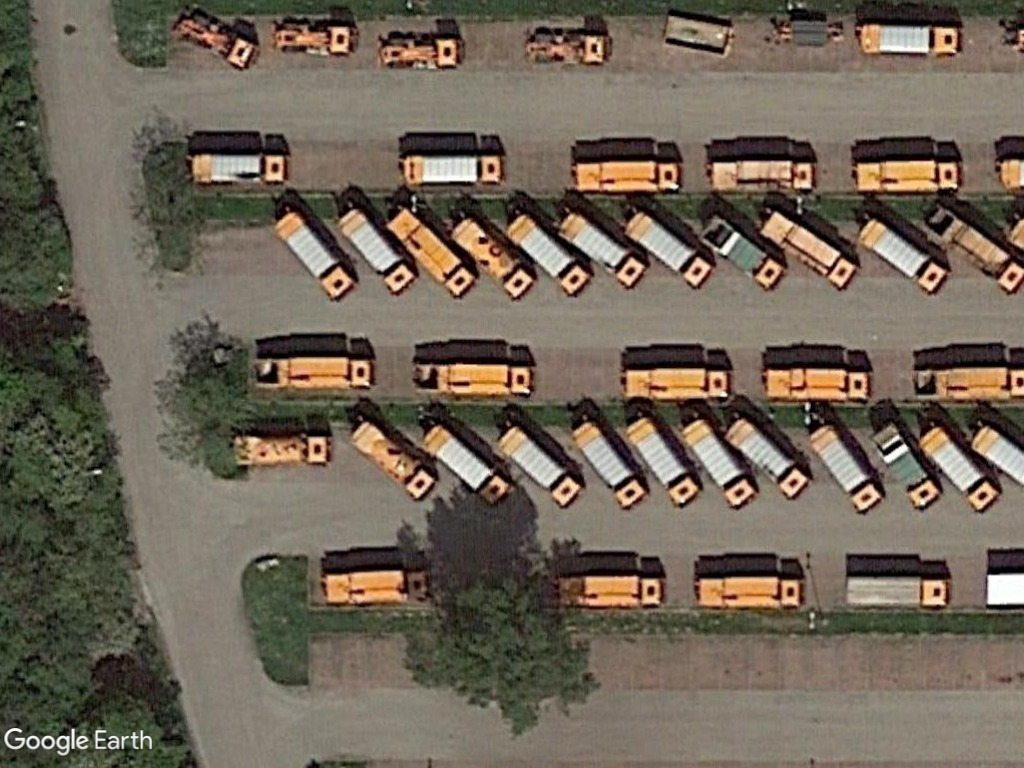truck: (388, 205, 478, 300), (760, 207, 860, 292), (422, 421, 514, 509), (269, 207, 356, 300), (677, 416, 759, 512), (500, 212, 591, 298), (498, 421, 584, 512), (622, 414, 703, 509), (916, 425, 1000, 516), (855, 216, 947, 299), (619, 207, 713, 288), (807, 423, 885, 520), (570, 419, 648, 513), (726, 416, 809, 503), (558, 212, 649, 291), (337, 207, 417, 294), (451, 213, 534, 295), (873, 427, 943, 514), (690, 571, 807, 613), (401, 145, 507, 189), (851, 154, 964, 195), (841, 573, 954, 613), (321, 568, 431, 608), (707, 158, 819, 197), (185, 149, 293, 189), (557, 571, 666, 610), (571, 158, 684, 195), (444, 356, 536, 400), (853, 23, 968, 58), (644, 364, 734, 406), (287, 354, 376, 393), (786, 364, 873, 403)
